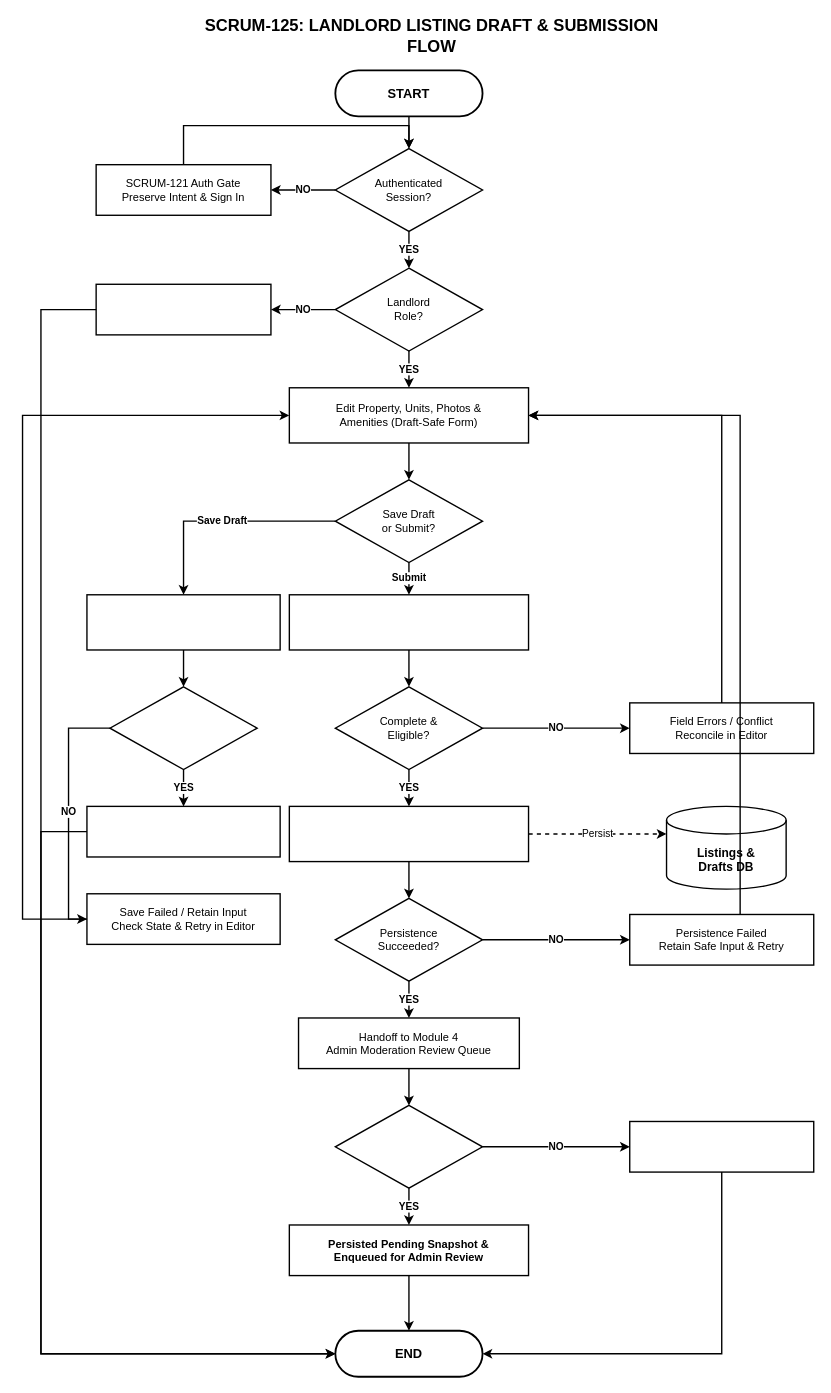
Image size: 831x1393. Some labels were removed from this diagram. Here are the shapes that lost their labels. From the top down, the centre of each, then its label:
the point at 183,309: Deny Access No Records Disclosed
the point at 183,622: Validate Ownership & Draft-Safe Partial Input
the point at 408,622: Validate Complete Property, Units, Required Media & KYC Policy
the point at 183,728: Draft Save Succeeded?
the point at 183,831: Saved Draft State (Private & Non-Public)
the point at 408,833: Persist Pending Snapshot Under Approved Schema & Prevent Race
the point at 408,1146: Handoff Accepted?
the point at 721,1146: Show Authoritative State Reconcile Acknowledgement
